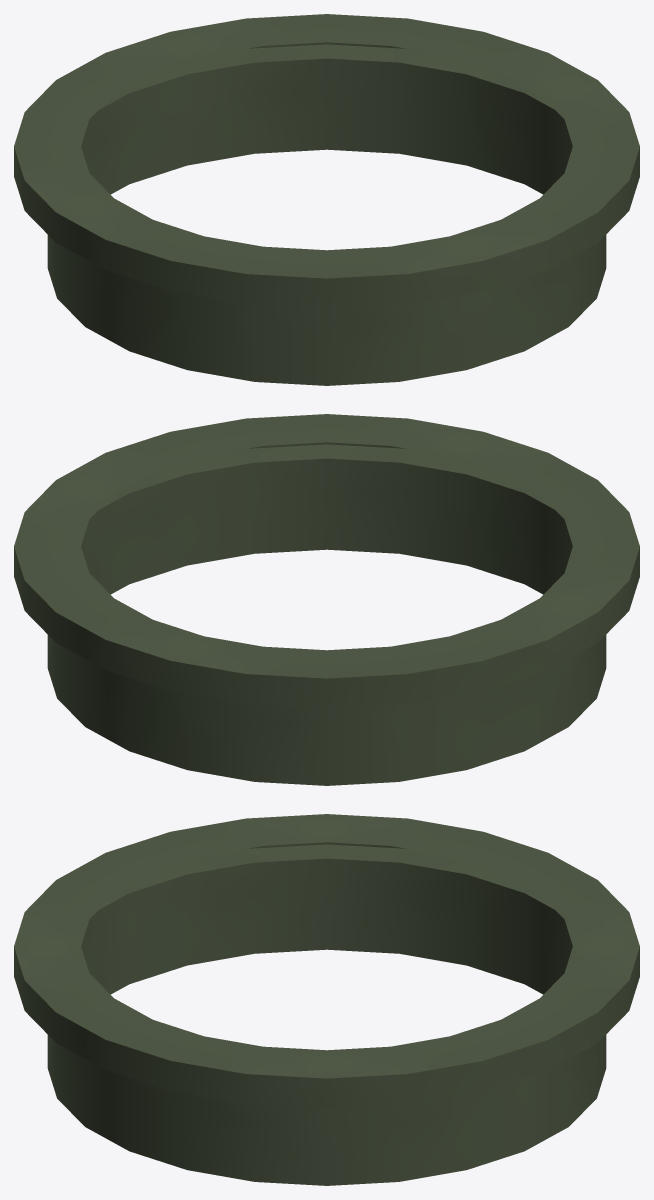
The model's file is airlock base.obj.
3 renders of one model, top to bottom at view 1: azimuth 30°, elevation 25°; view 2: azimuth 150°, elevation 25°; view 3: azimuth 270°, elevation 25°, orthographic.
Visible parts, largest first — view 1: base; view 2: base; view 3: base.
Boxes of the visible parts, x1,y1,x2,y2 form: base: (14,14,639,385); base: (14,414,639,785); base: (14,814,639,1185).
Bounding box in the file's own units: 0.7 × 0.15 × 0.7.
